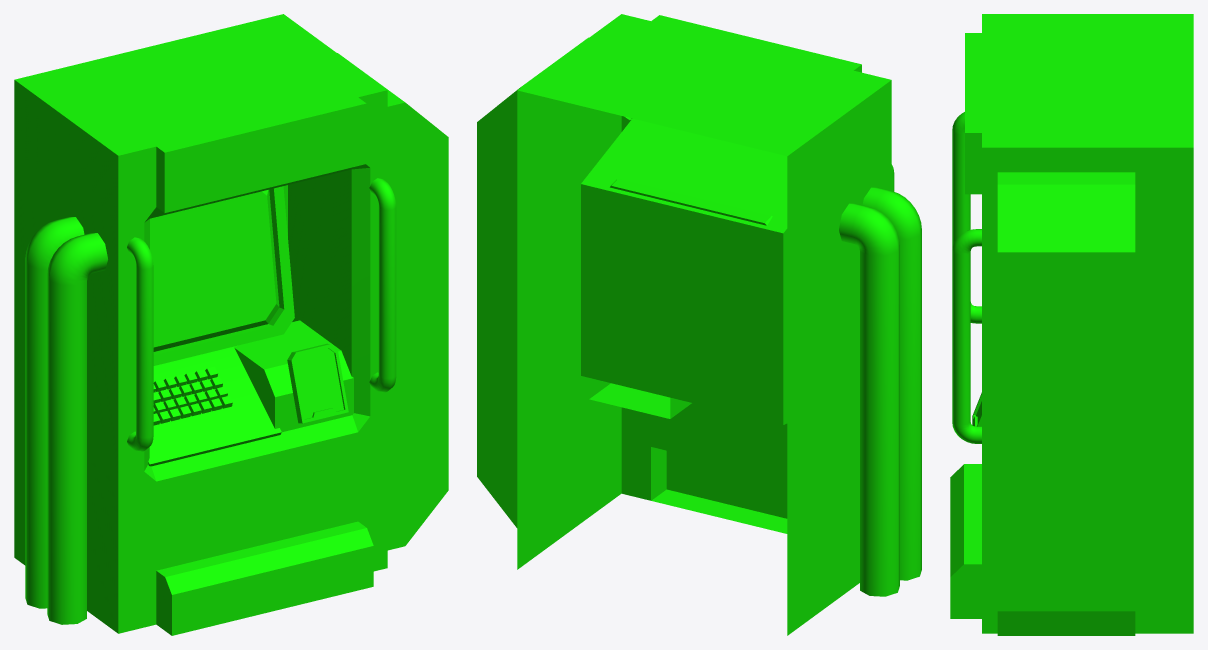
Rendered from M_prop_ATM.FBX.
3 renders of one model, left to right at view 1: azimuth 30°, elevation 25°; view 2: azimuth 150°, elevation 25°; view 3: azimuth 270°, elevation 25°, orthographic.
Visible parts, largest first — view 1: M_prop_ATM; view 2: M_prop_ATM; view 3: M_prop_ATM.
Boxes of the visible parts, x1,y1,x2,y2 form: M_prop_ATM: [14, 14, 448, 635]; M_prop_ATM: [477, 14, 921, 635]; M_prop_ATM: [950, 14, 1193, 635].
Size of the model in its own units: 208 by 112 by 246.
